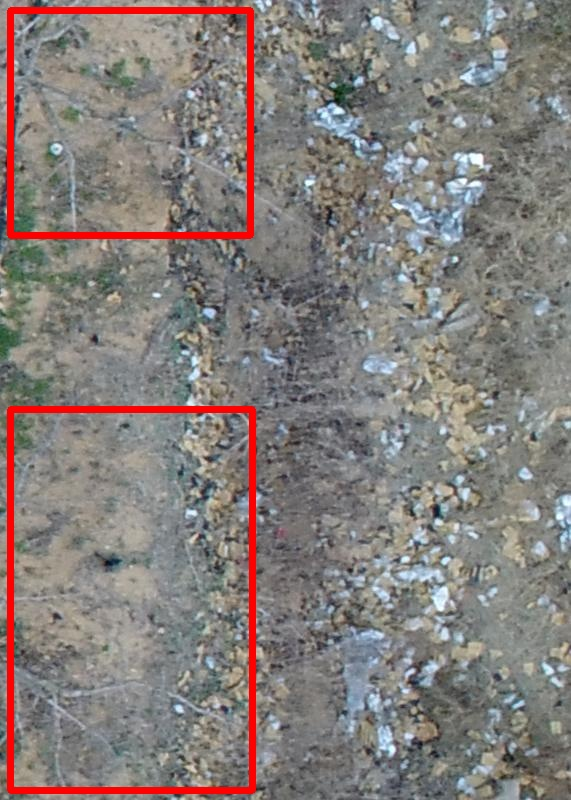apple: (10, 409, 252, 790), (10, 10, 250, 235)
